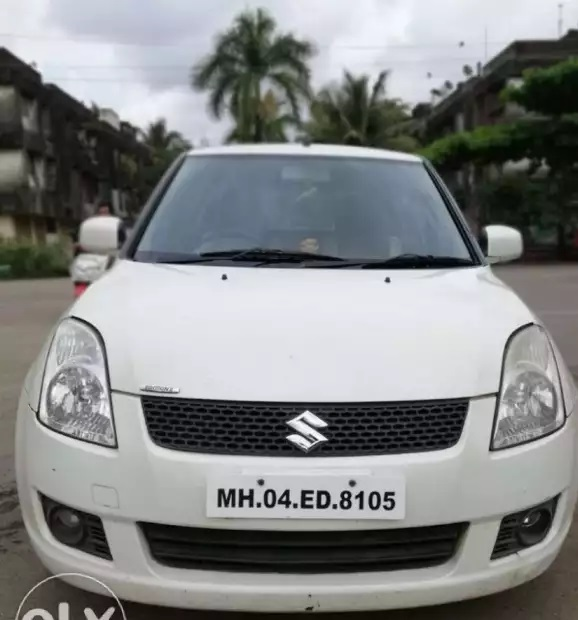licenseplate: (202, 466, 405, 523)
